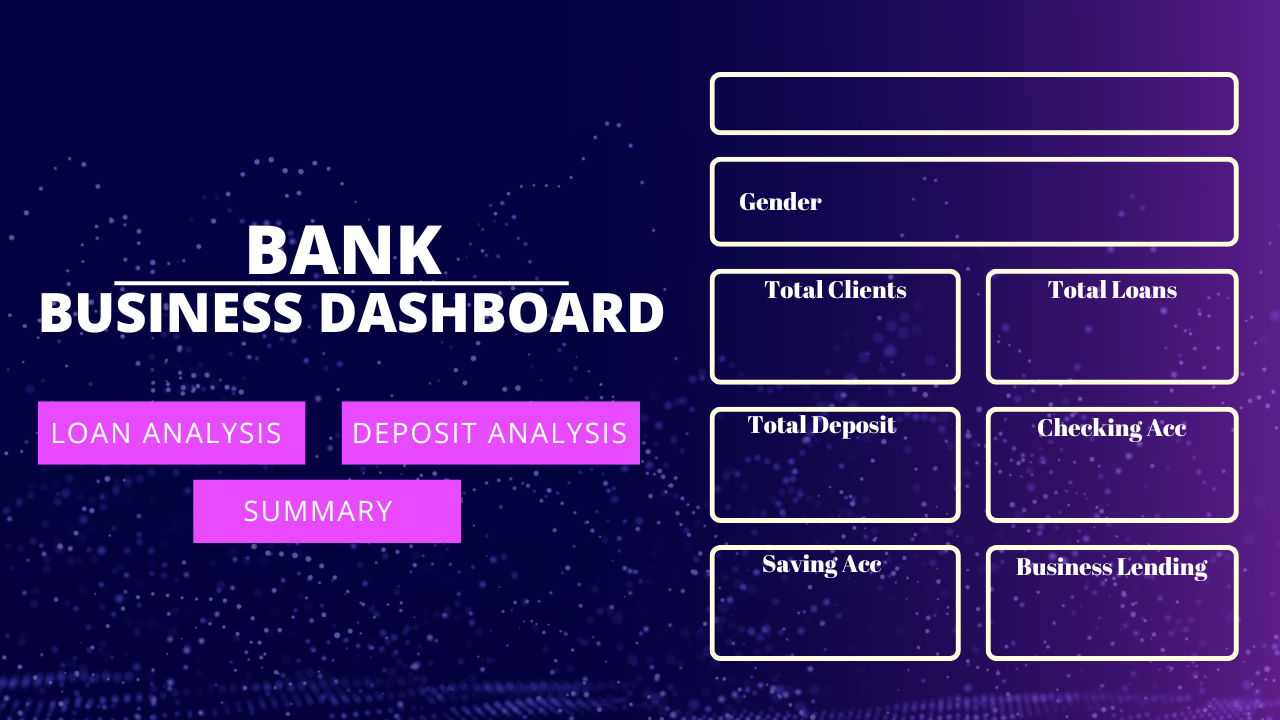

The page's visual inventory and layout, read from the dashboard file:
{"tool":"powerbi","page":{"name":"Home","canvas":[1280,720],"ordinal":0},"visuals":[{"type":"slicer","fields":{"Values":["Banking.GenderId"]},"box":[828.1,168,386.4,67.2],"z":0},{"type":"card","fields":{"Values":["CountNonNull(Banking.Client ID)"]},"box":[749.2,299,157.9,73.9],"z":1000},{"type":"card","fields":{"Values":["own measure.total loan"]},"box":[1021.3,299,179.7,73.9],"z":2000},{"type":"card","fields":{"Values":["own measure.total deposit"]},"box":[737.4,433.4,179.7,73.9],"z":3000},{"type":"slicer","fields":{"Values":["Banking.joined year"]},"box":[850,80.6,386.4,48.7],"z":4000},{"type":"textbox","box":[724,85.7,144.5,43.7],"z":5000},{"type":"card","fields":{"Values":["Sum(Banking.Checking Accounts)"]},"box":[1006.2,433.4,208.3,73.9],"z":6000},{"type":"card","fields":{"Values":["Sum(Banking.Saving Accounts)"]},"box":[724,577.8,220.1,73.9],"z":7000},{"type":"card","fields":{"Values":["Sum(Banking.Business Lending)"]},"box":[1006.2,577.8,208.3,73.9],"z":8000},{"type":"actionButton","box":[40.3,403.1,265.4,67.2],"z":9000},{"type":"actionButton","box":[344.4,399.8,295.6,67.2],"z":10000},{"type":"actionButton","box":[195.2,480,263.1,63.6],"z":11000}]}

Visuals, with their boxes in screenshot pixels (x1, y1, x2, y2), scaled from the page's 1280x720 canvas onto the 1280x720 screenshot:
slicer - Banking.GenderId: x1=828, y1=168, x2=1214, y2=235
card - CountNonNull(Banking.Client ID): x1=749, y1=299, x2=907, y2=373
card - own measure.total loan: x1=1021, y1=299, x2=1201, y2=373
card - own measure.total deposit: x1=737, y1=433, x2=917, y2=507
slicer - Banking.joined year: x1=850, y1=81, x2=1236, y2=129
textbox: x1=724, y1=86, x2=868, y2=129
card - Sum(Banking.Checking Accounts): x1=1006, y1=433, x2=1214, y2=507
card - Sum(Banking.Saving Accounts): x1=724, y1=578, x2=944, y2=652
card - Sum(Banking.Business Lending): x1=1006, y1=578, x2=1214, y2=652
actionButton: x1=40, y1=403, x2=306, y2=470
actionButton: x1=344, y1=400, x2=640, y2=467
actionButton: x1=195, y1=480, x2=458, y2=544
